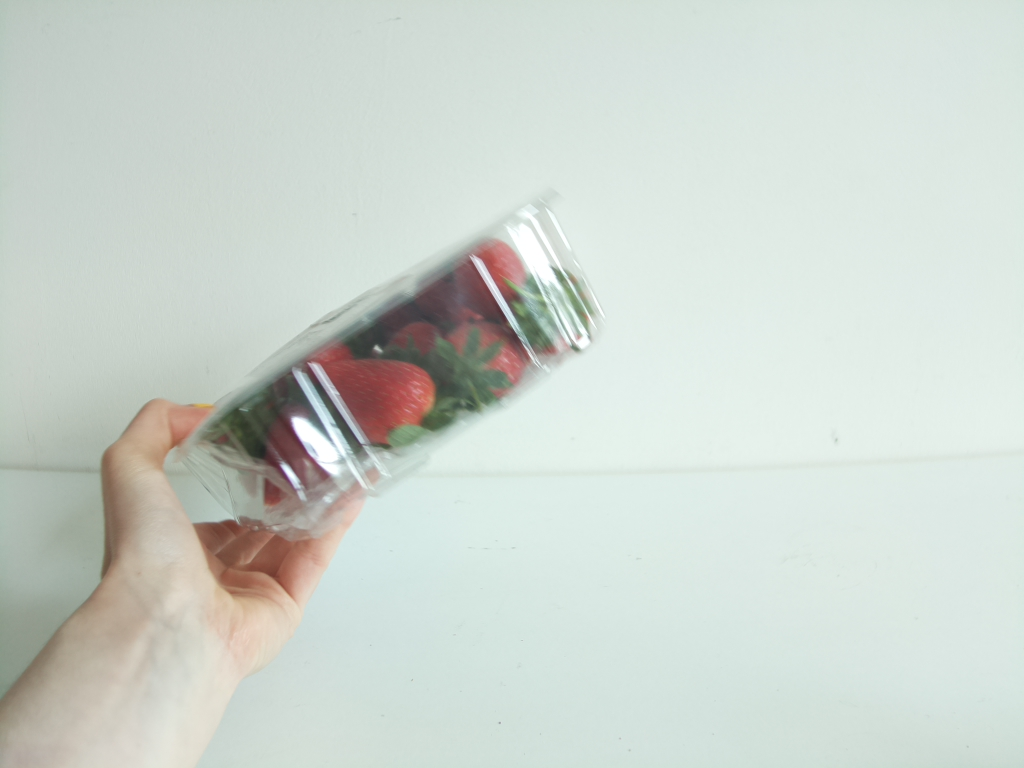soft-fruit: (175, 184, 603, 545)
